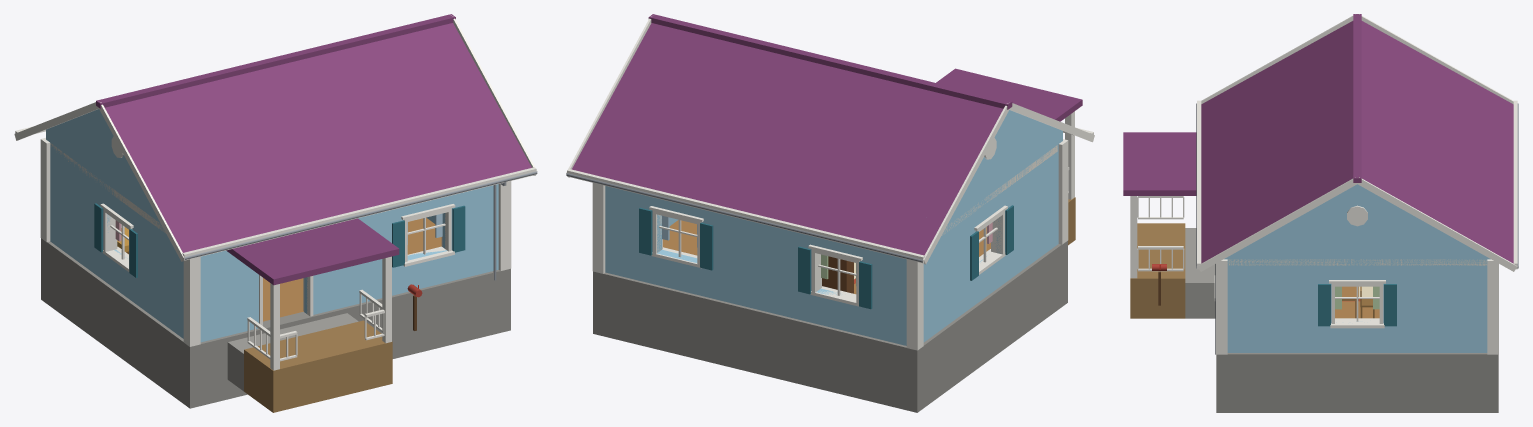
The model's file is HouseTwoStory.glb.
3 views of the same model, side by side, from view 1: azimuth 30°, elevation 25°; view 2: azimuth 150°, elevation 25°; view 3: azimuth 270°, elevation 25° (orthographic). The views are drawn at different scales.
Visible parts, largest first — view 1: HouseTwoStory; view 2: HouseTwoStory; view 3: HouseTwoStory.
Part boxes in pixels (bbox=[...]): HouseTwoStory: bbox=[14, 14, 537, 412]; HouseTwoStory: bbox=[566, 14, 1094, 412]; HouseTwoStory: bbox=[1123, 14, 1518, 412].
Size of the model in its own units: 11.3 by 7.79 by 11.48.
